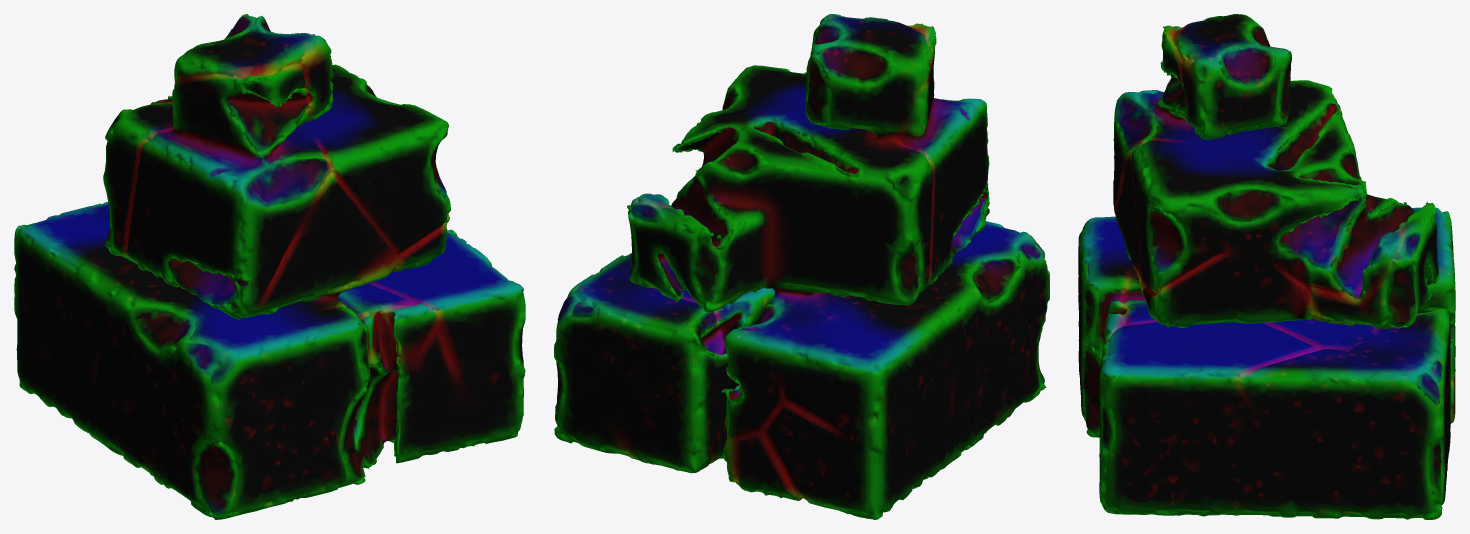
File: SM_Ruin_C.glb
The picture shows the model from 3 angles, left to right: view 1: azimuth 30°, elevation 25°; view 2: azimuth 150°, elevation 25°; view 3: azimuth 270°, elevation 25°; orthographic projection. The views are drawn at different scales.
Parts seen in each view (by area): view 1: SM_Ruin_C; view 2: SM_Ruin_C; view 3: SM_Ruin_C.
Part boxes in pixels (x1,y1,x2,y2): SM_Ruin_C: (14,14,525,519); SM_Ruin_C: (554,14,1049,519); SM_Ruin_C: (1078,14,1455,519).
Bounding box in the file's own units: 1.91 × 2.09 × 1.86.
